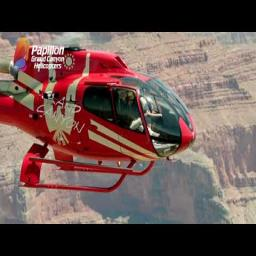helicopter: (2, 46, 202, 185)
